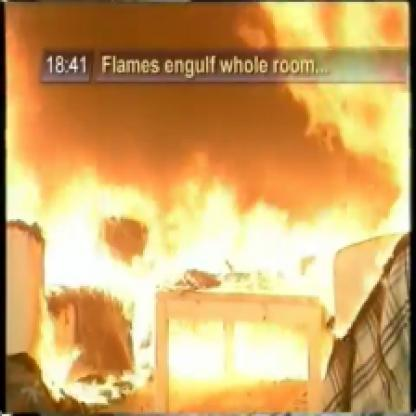fire: (14, 193, 316, 410), (200, 2, 416, 198), (0, 9, 83, 216)
